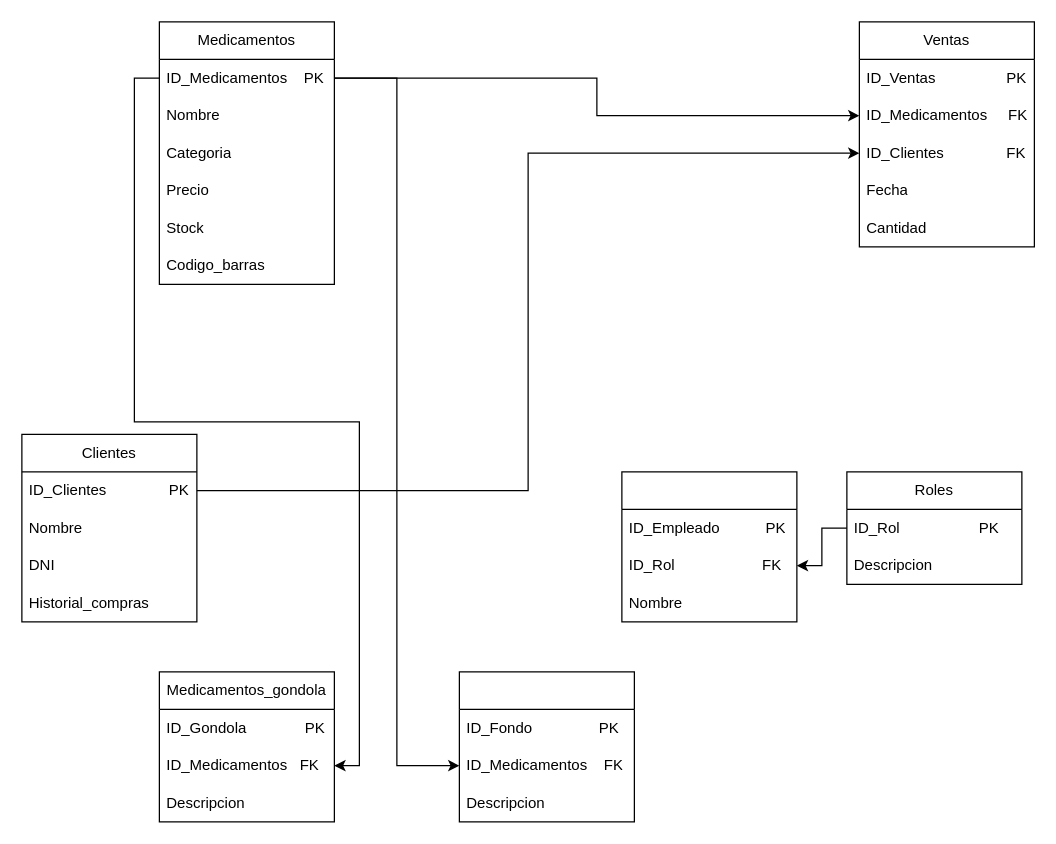
Image size: 1056x844. Some labels were removed from this diagram. Each missing label, with the box of its shape:
Empleados: (621, 471, 797, 622)
Medicamentos_con_receta: (458, 671, 634, 822)
